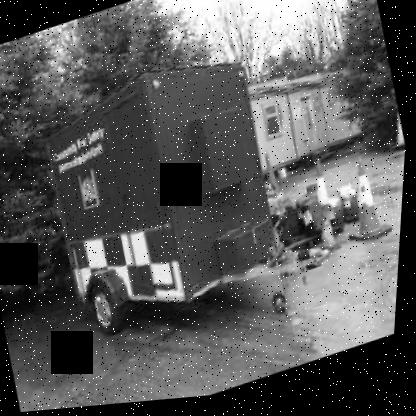emergency: (17, 20, 355, 386)
